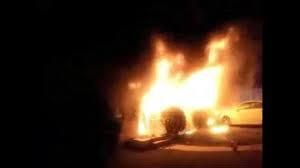fire: (133, 32, 233, 140)
